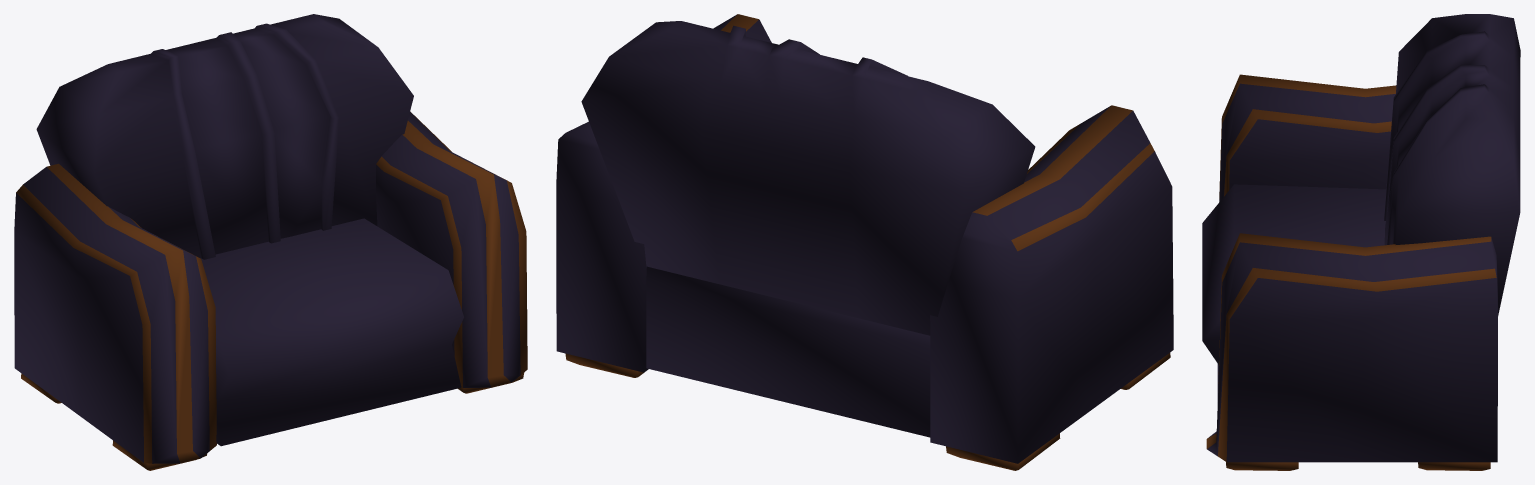
The model's file is chair.glb.
3 renders of one model, left to right at view 1: azimuth 30°, elevation 25°; view 2: azimuth 150°, elevation 25°; view 3: azimuth 270°, elevation 25°, orthographic. The views are drawn at different scales.
Parts seen in each view (by area): view 1: Chair; view 2: Chair; view 3: Chair.
Part boxes in pixels (bbox=[...]): Chair: bbox=[14, 14, 527, 470]; Chair: bbox=[556, 14, 1173, 470]; Chair: bbox=[1202, 14, 1520, 470].
Bounding box in the file's own units: 3.92 × 2.96 × 2.69.
